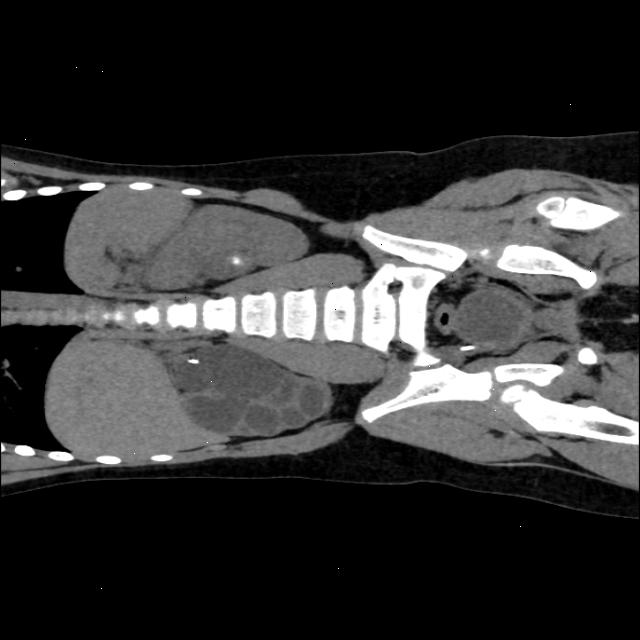kidneystone: (229, 255, 241, 265), (187, 358, 199, 364)
